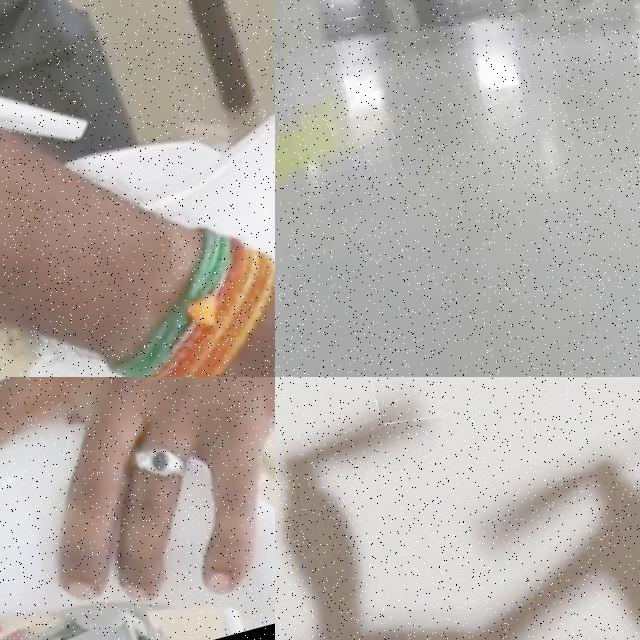drone: (0, 0, 275, 377), (0, 377, 275, 640)
